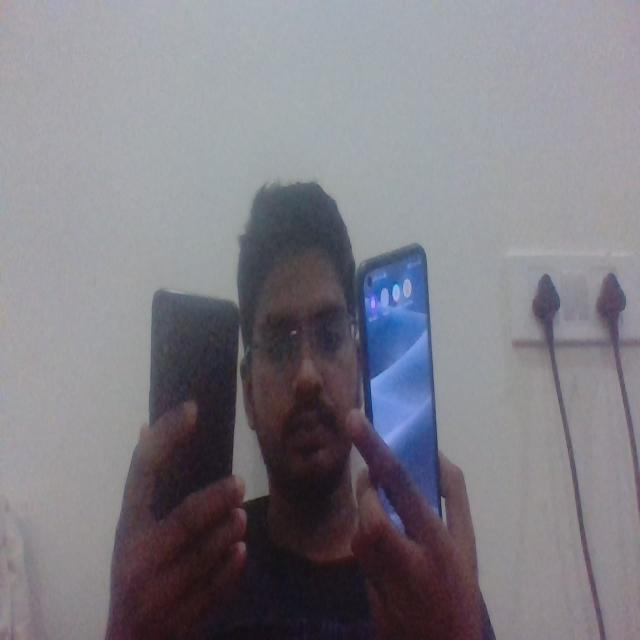Phone: (352, 239, 448, 532), (146, 286, 242, 525)
